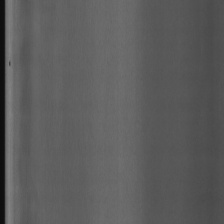oil_spot: (7, 53, 15, 76)
